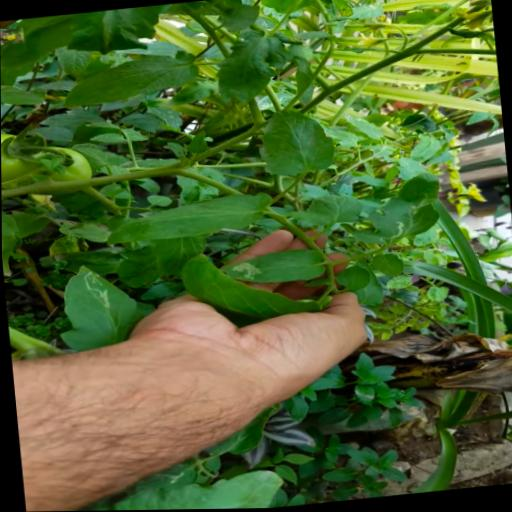Healthy: (176, 242, 322, 328), (103, 192, 274, 248), (58, 49, 202, 110), (210, 27, 295, 107), (253, 106, 338, 181), (288, 192, 365, 231), (333, 265, 370, 294), (368, 253, 404, 280)
Leaf_Miner: (51, 258, 158, 352), (343, 172, 447, 251), (216, 247, 327, 290)
